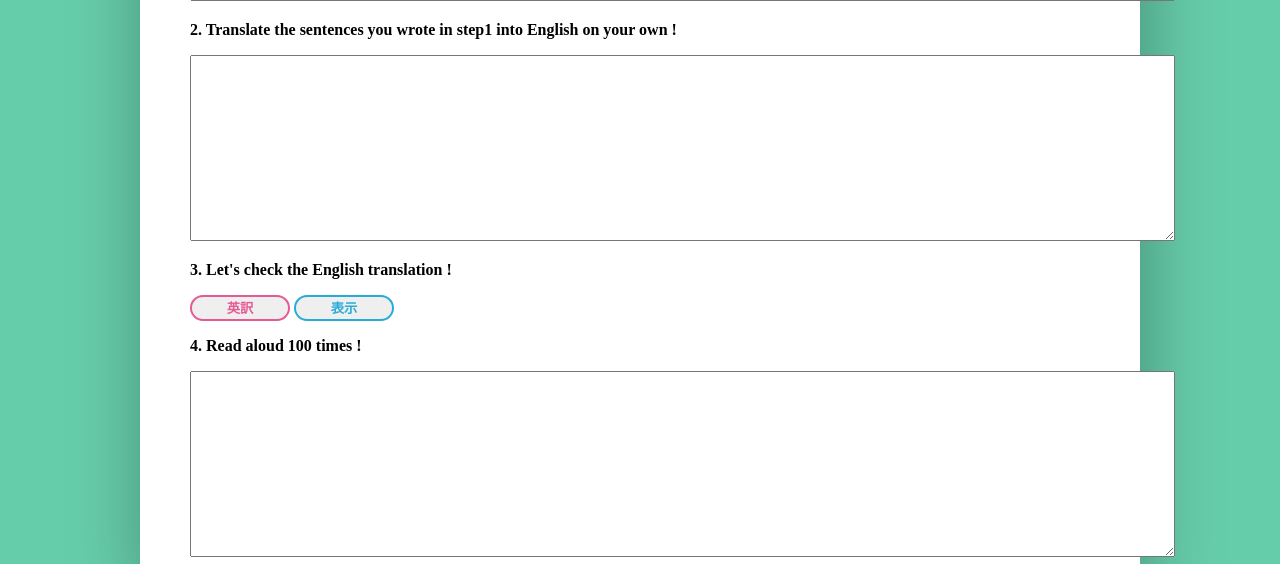
Test: App › render › 表示ボタンを押した時に非表示ボタンとtextareaが表示される
(page scrolled)
Click the button "表示" at (344,308), box [294,295,394,321]
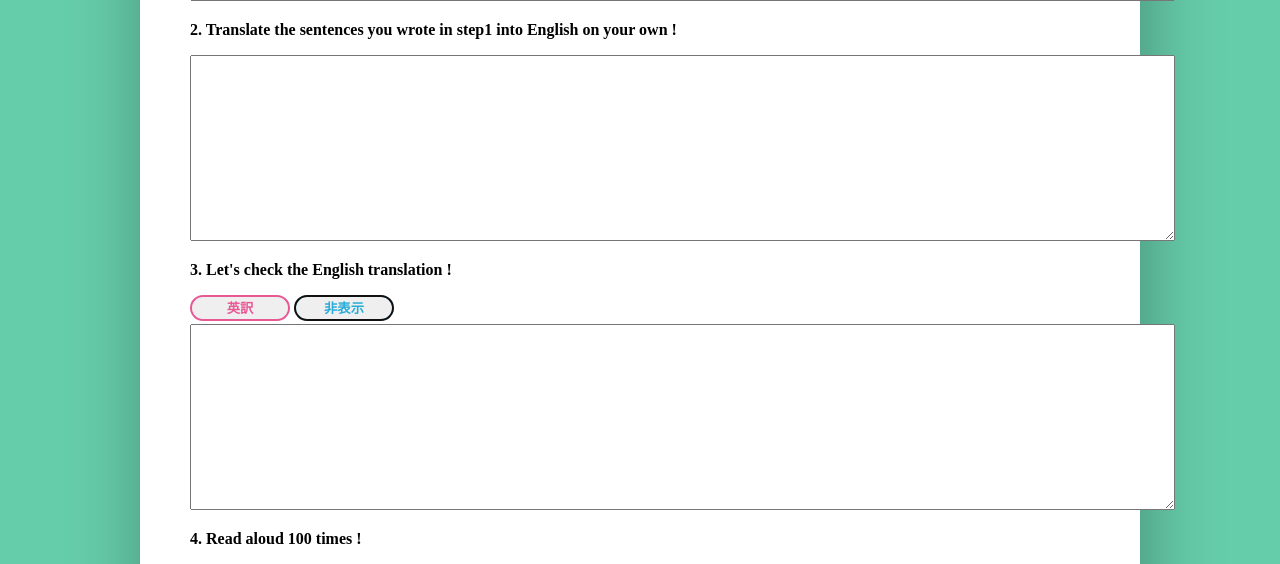
Expected: the button "非表示" is shown, [294,295,394,321]
Expected: the text box named "check_translation" is shown, [190,324,1175,510]
